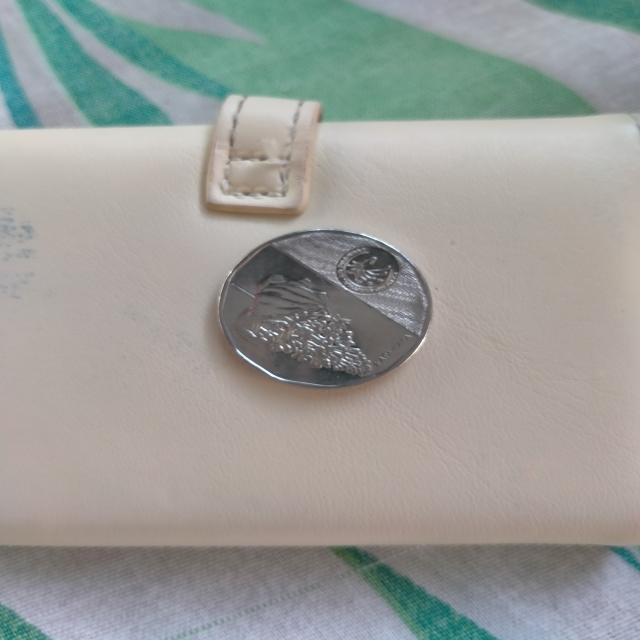10_New_Back: (224, 260, 380, 382)
